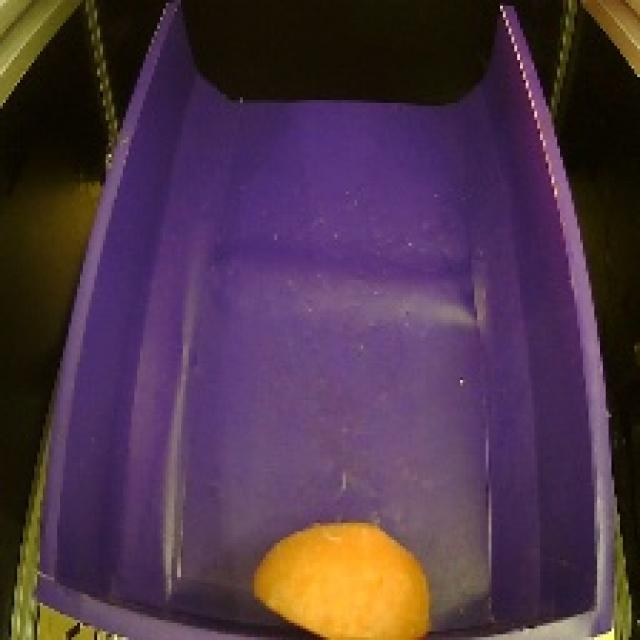carrots: (237, 510, 443, 640)
